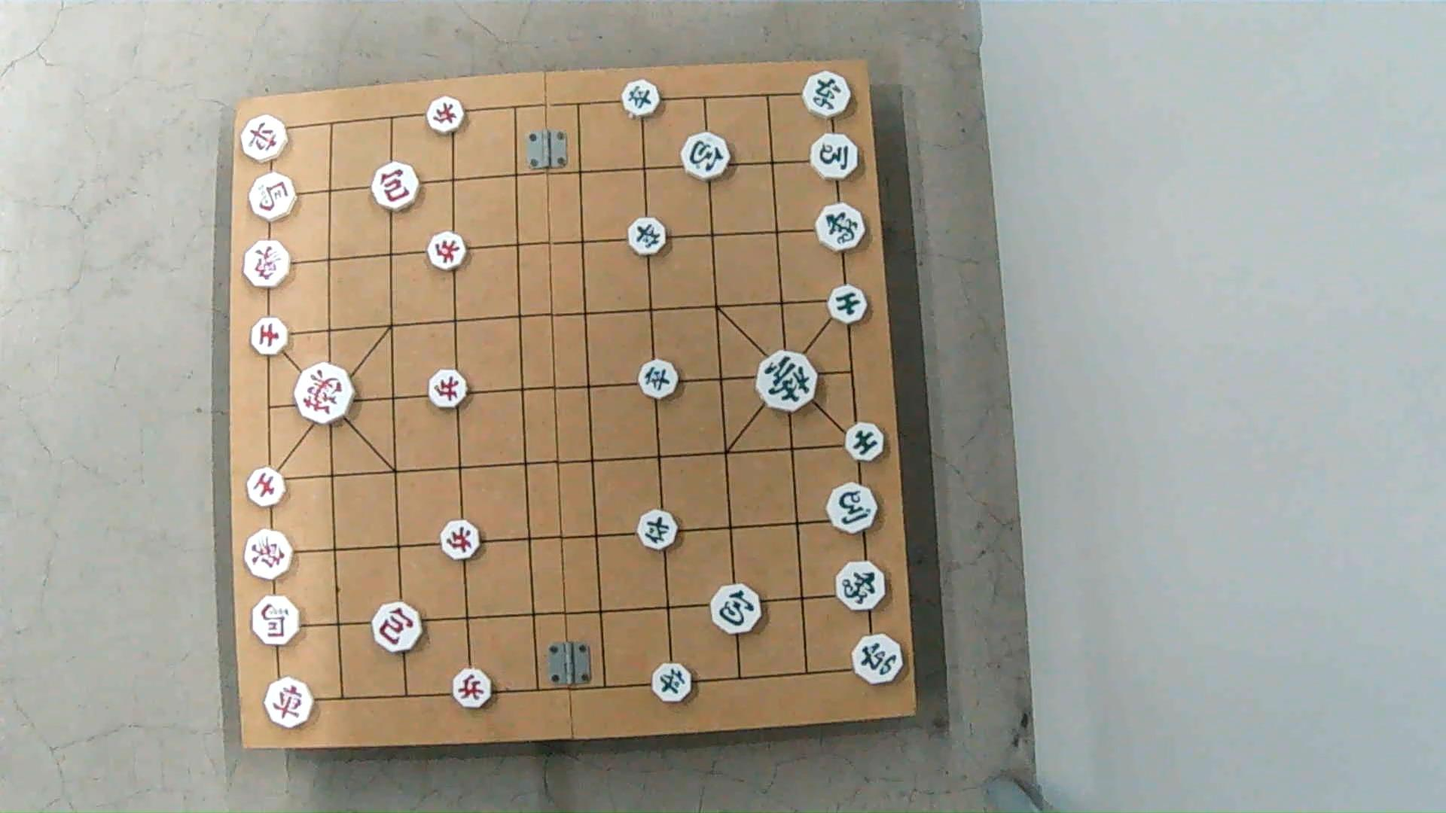cha_green: (851, 633, 906, 683), (801, 75, 853, 118)
cha_red: (266, 681, 316, 729), (237, 118, 286, 160)
jol_green: (636, 361, 681, 397), (650, 665, 694, 701), (638, 513, 682, 547), (628, 219, 670, 254), (623, 83, 664, 117)
jol_red: (453, 671, 496, 708), (426, 372, 469, 408), (441, 523, 484, 559), (426, 234, 468, 269), (423, 101, 465, 134)
ma_green: (825, 484, 878, 530), (809, 135, 861, 178)
ma_red: (246, 171, 294, 224), (250, 599, 300, 645)
po_green: (709, 585, 763, 632), (680, 134, 731, 178)
po_red: (374, 605, 427, 652), (372, 166, 422, 210)
sa_green: (828, 283, 869, 328), (847, 425, 889, 461)
sa_red: (244, 470, 286, 507), (249, 318, 287, 353)
sang_green: (816, 201, 866, 254), (832, 564, 887, 609)
sang_red: (245, 531, 296, 578), (242, 243, 291, 288)
wang_green: (755, 352, 821, 409)
wang_red: (294, 367, 356, 422)
